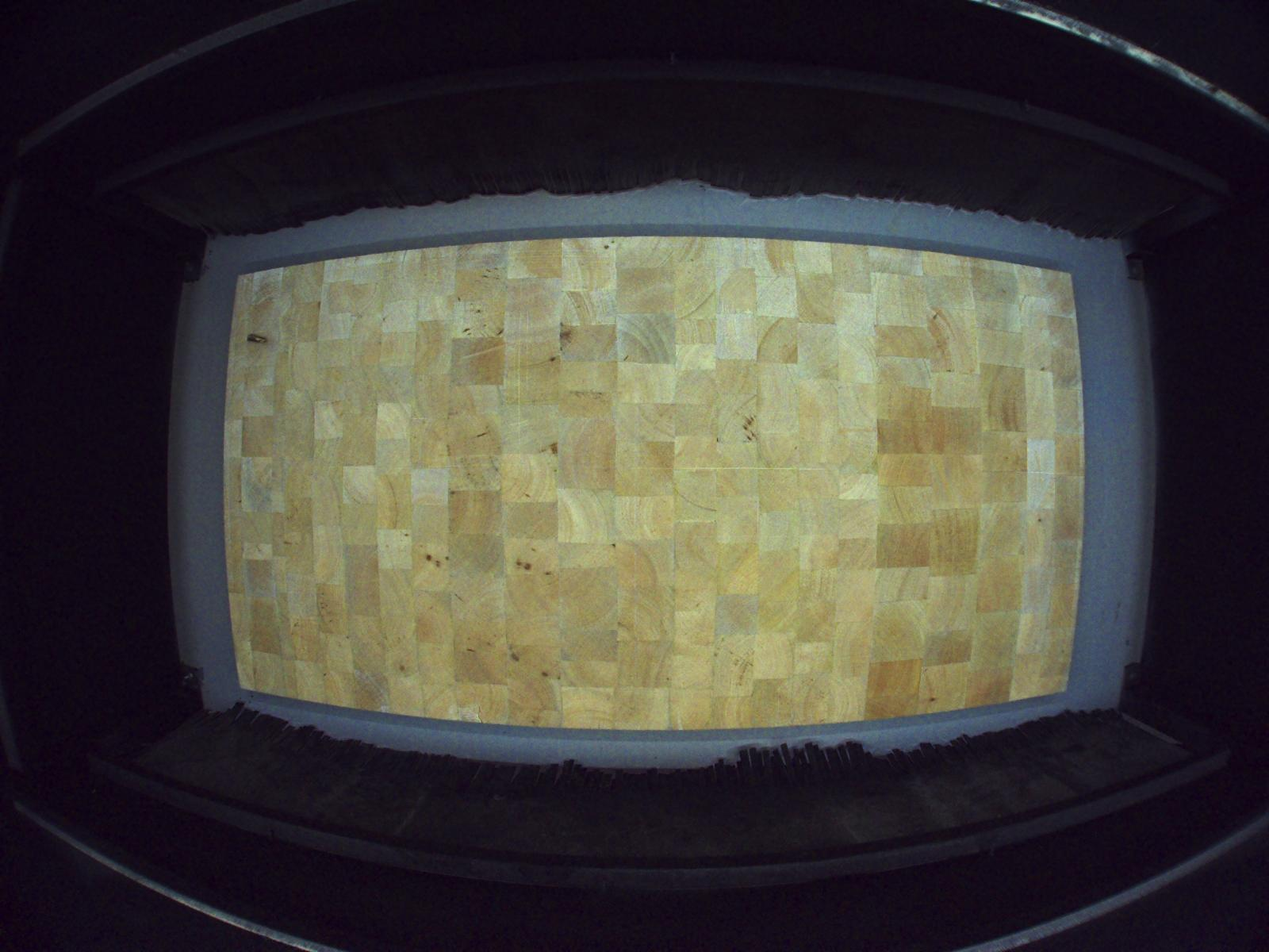nudillo: (247, 331, 269, 346)
